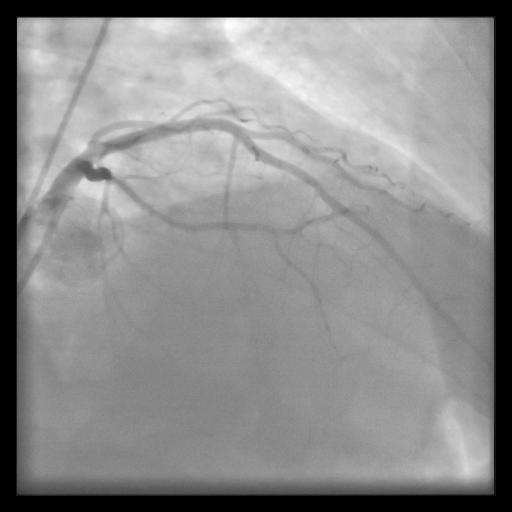Stenosis: (104, 166, 134, 189)
